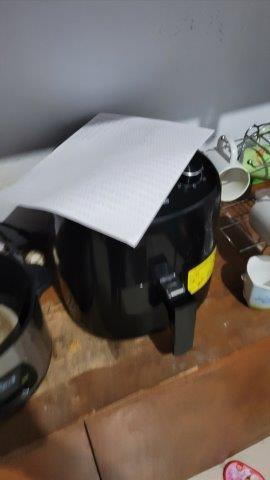kertas: (8, 113, 217, 247)
